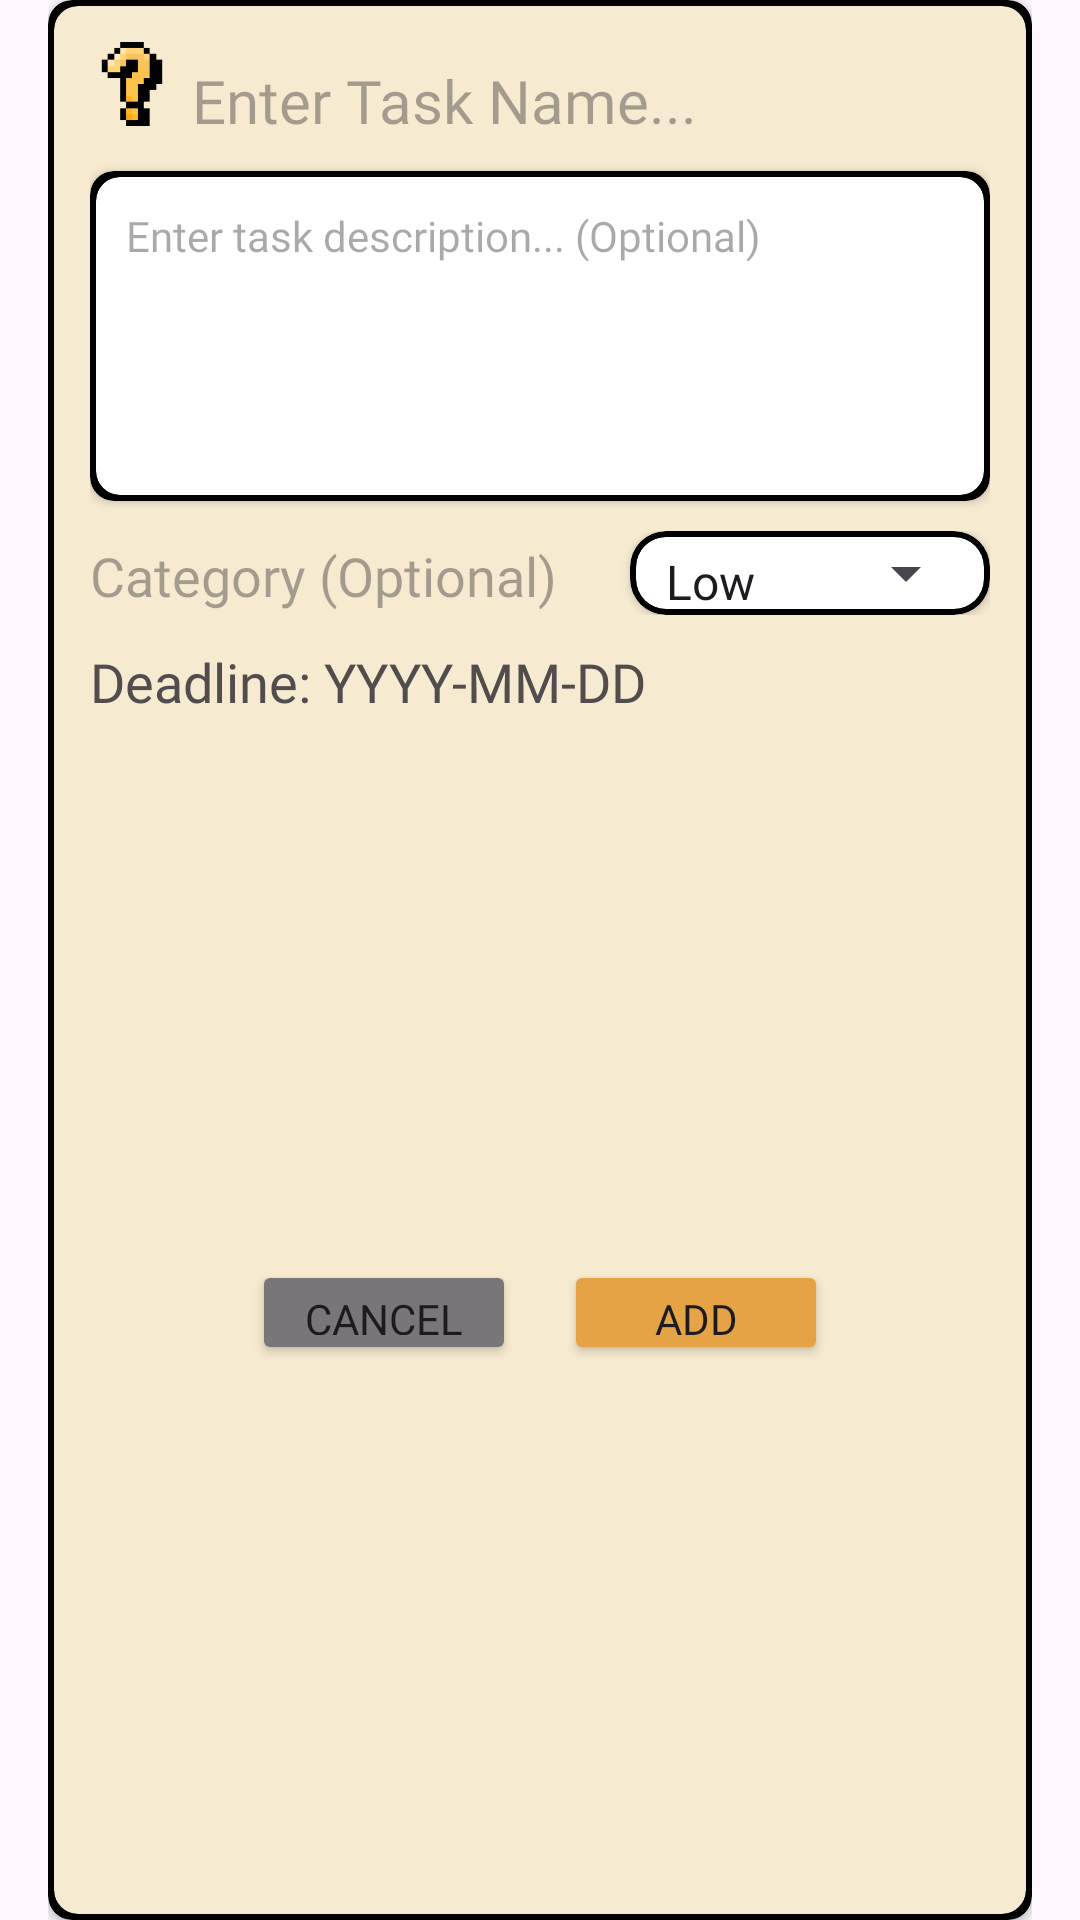

Named icons in this screenshot (1080 x 1920) and their centers, (x,y):
unknown: (132,84)
